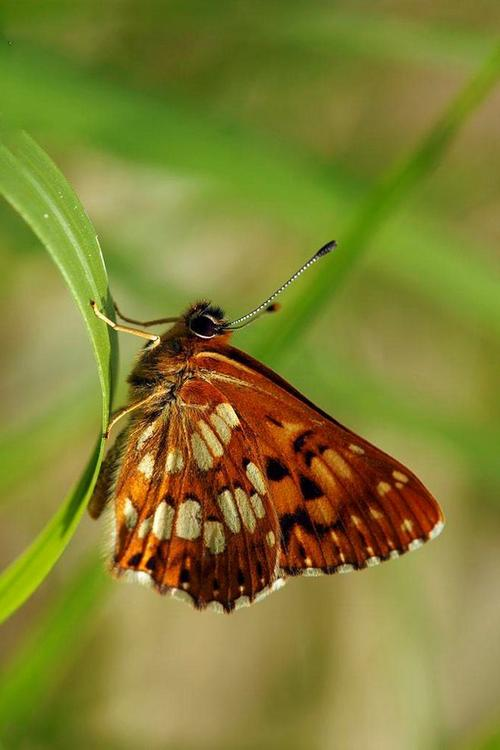Hesperiidae: (89, 227, 443, 628)
